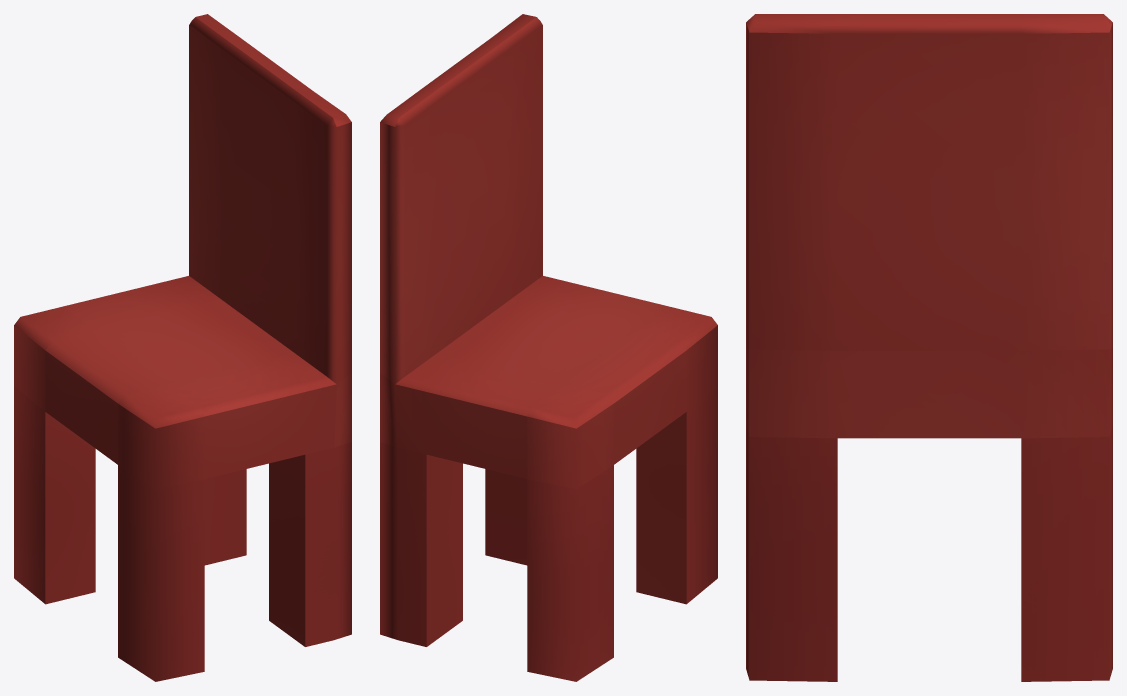
Rendered from chair.fbx.
3 renders of one model, left to right at view 1: azimuth 30°, elevation 25°; view 2: azimuth 150°, elevation 25°; view 3: azimuth 270°, elevation 25°, orthographic. The views are drawn at different scales.
Visible parts, largest first — view 1: pCube3; view 2: pCube3; view 3: pCube3.
Part boxes in pixels (x1,y1,x2,y2): pCube3: [14, 14, 351, 681]; pCube3: [380, 14, 717, 681]; pCube3: [746, 14, 1112, 681].
Bounding box in the file's own units: 3.04 × 7.5 × 3.8.
1 material, 1 textured.
